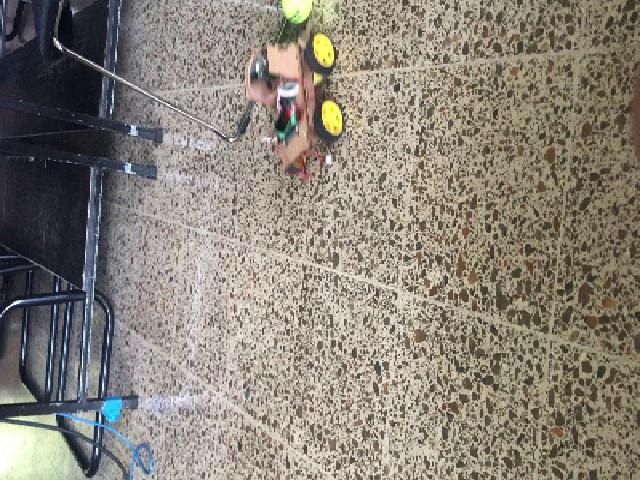Ball: (282, 0, 312, 24)
Robot: (245, 29, 344, 175)
